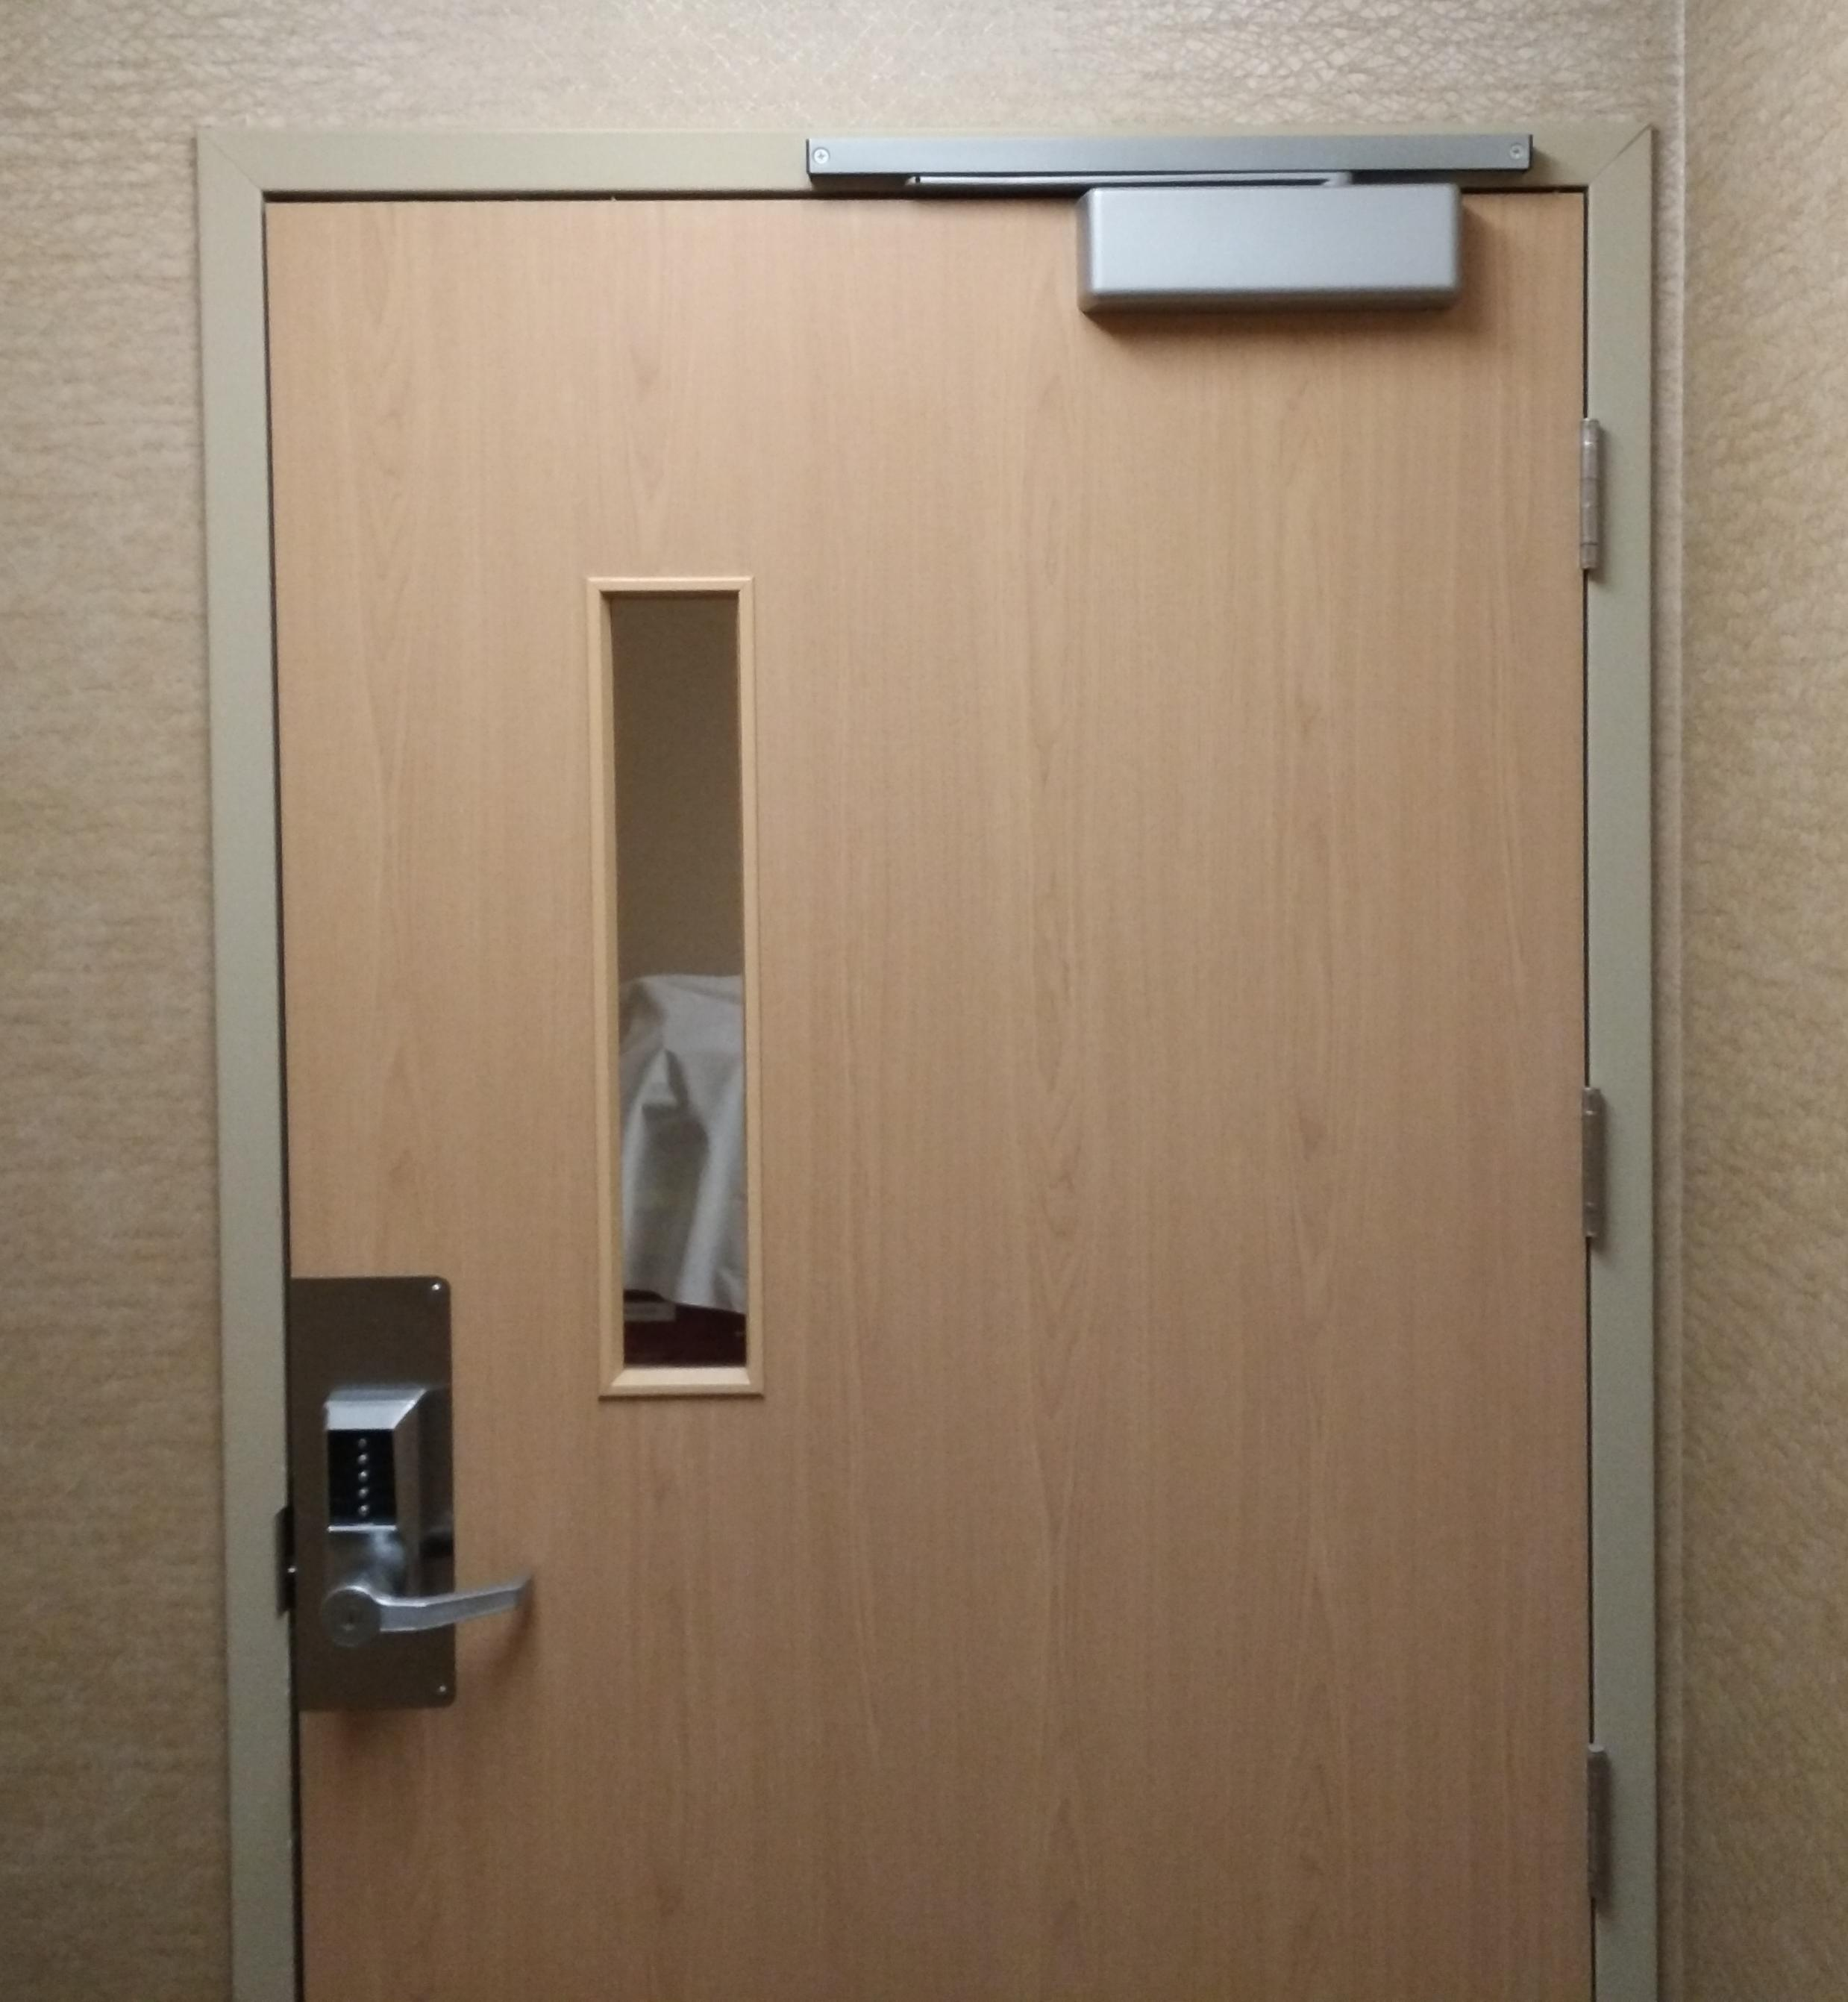door: (249, 173, 1623, 1997)
